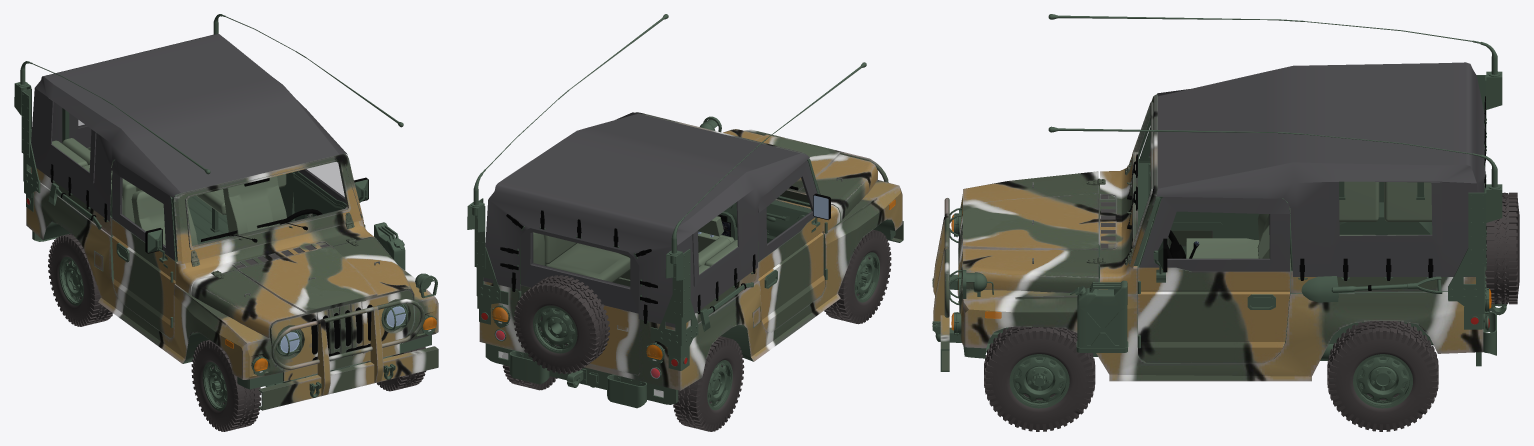
Rendered from kia_km420.glb.
The picture shows the model from 3 angles, left to right: view 1: azimuth 30°, elevation 25°; view 2: azimuth 150°, elevation 25°; view 3: azimuth 270°, elevation 25°; orthographic projection. The views are drawn at different scales.
Visible parts, largest first — view 1: polySurface7160, polySurface7203, polySurface165, polySurface7164, polySurface7198, polySurface7201, polySurface7209, polySurface174, polySurface1642 (×2), polySurface168, polySurface157, polySurface7192 (+9 smaller); view 2: polySurface7160, polySurface7203, polySurface155, polySurface7140, polySurface7209, polySurface157, polySurface7164, polySurface174, polySurface7202, polySurface7192, polySurface7207, pCube30 (×2) (+11 smaller); view 3: polySurface7160, polySurface7203, polySurface7164, polySurface7191, polySurface154, polySurface7192, polySurface173, polySurface7200, polySurface168, polySurface7208, polySurface155, polySurface165 (+10 smaller).
Part boxes in pixels (x1,y1,x2,y2): polySurface7160: (31,33,347,222); polySurface7203: (26,167,438,389); polySurface165: (174,153,363,263); polySurface7164: (192,237,414,337); polySurface7198: (258,299,438,410); polySurface7201: (270,290,413,381); polySurface7209: (112,218,177,338); polySurface174: (191,340,261,431); polySurface1642 (×2): (131,176,286,245); polySurface168: (175,219,375,295); polySurface157: (48,233,112,326); polySurface7192: (111,160,174,260); polySurface7160: (483,112,809,327); polySurface7203: (479,180,902,390); polySurface155: (513,275,609,373); polySurface7140: (521,228,639,313); polySurface7209: (758,217,825,332); polySurface157: (673,336,744,431); polySurface7164: (723,129,877,221); polySurface174: (824,229,891,324); polySurface7202: (485,343,678,408); polySurface7192: (758,160,817,261); polySurface7207: (474,198,698,345); pCube30 (×2): (545,237,730,282); polySurface7160: (1156,62,1485,280); polySurface7203: (959,182,1483,381); polySurface7164: (963,171,1098,293); polySurface7191: (1138,265,1289,363); polySurface154: (1327,321,1438,431); polySurface7192: (1139,197,1289,271); polySurface173: (984,326,1095,431); polySurface7200: (1070,187,1484,352); polySurface168: (1100,164,1137,294); polySurface7208: (1048,14,1502,222); polySurface155: (1485,192,1519,304); polySurface165: (1129,94,1157,268).
Size of the model in its own units: 2.34 by 2.56 by 4.45.
14 materials, 3 textured.
